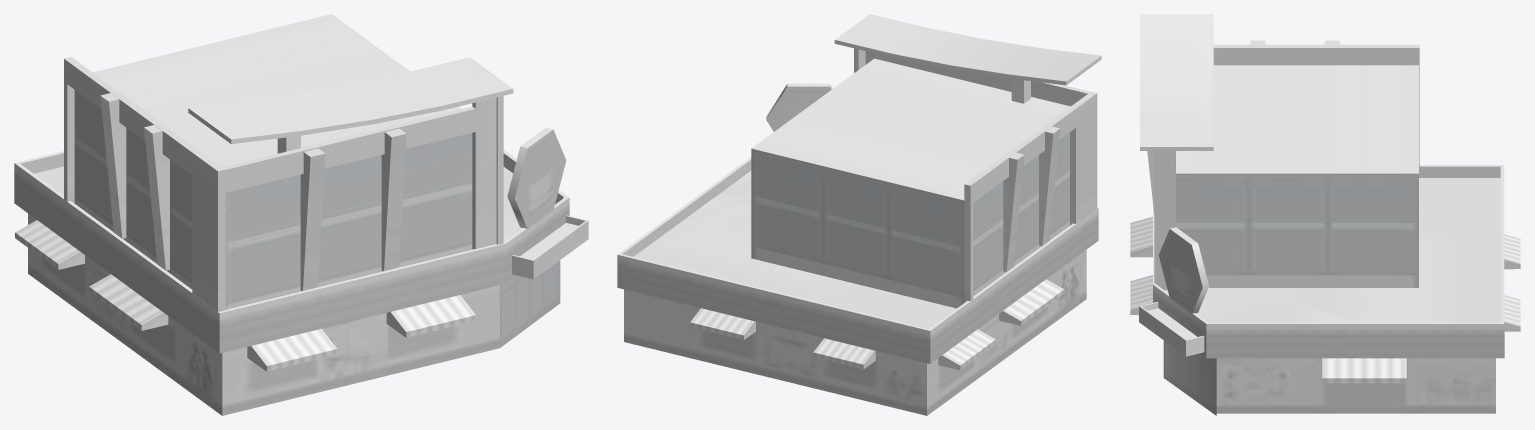
File: nha_thi_dau_1.glb
3 views of the same model, side by side, from view 1: azimuth 30°, elevation 25°; view 2: azimuth 150°, elevation 25°; view 3: azimuth 270°, elevation 25° (orthographic). The views are drawn at different scales.
Parts seen in each view (by area): view 1: Cafe; view 2: Cafe; view 3: Cafe.
Part boxes in pixels (x1,y1,x2,y2): Cafe: (14,14,588,415); Cafe: (617,14,1101,415); Cafe: (1130,14,1520,415).
Bounding box in the file's own units: 17.05 × 11.04 × 15.88.
Materials: 1 (1 with a texture image).
